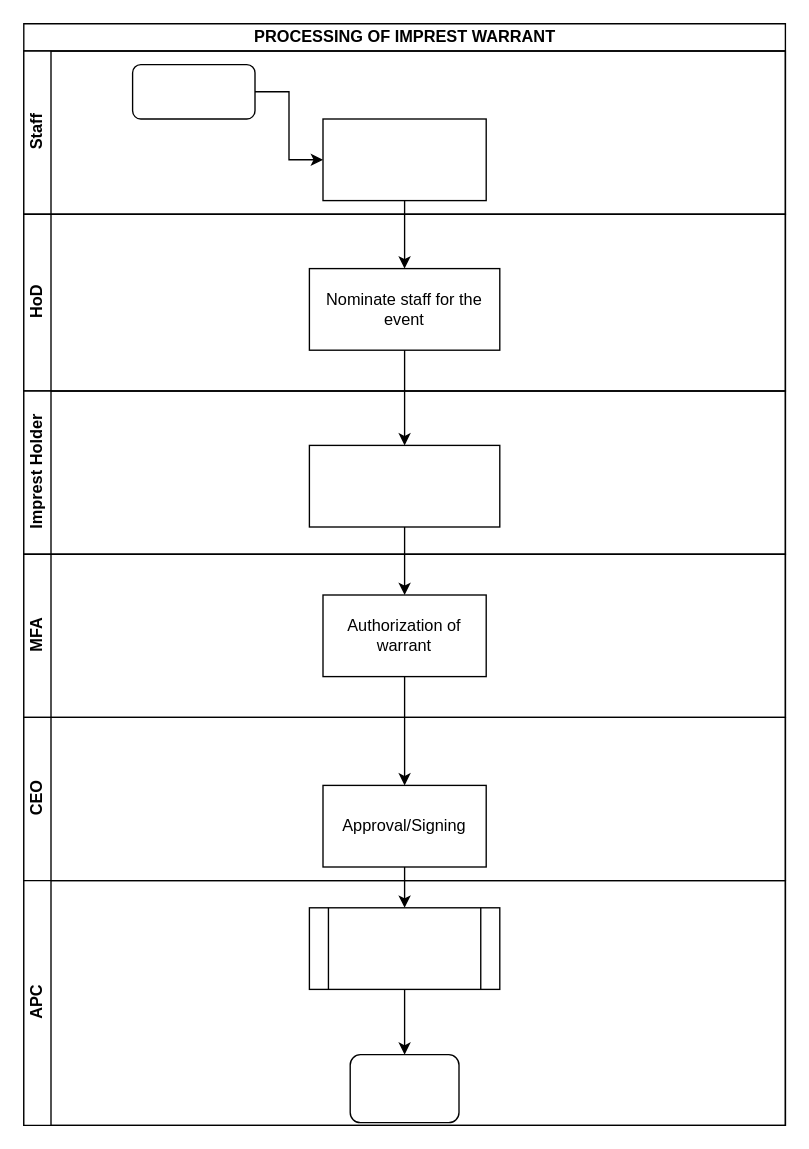
This 809x1149 diagram has some shape labels left out. The centre of each missing label's shape, as x and y in pixels:
End: (404,1088)
Fill in Imprest/Warrant Application Form: (404,485)
Prepare request for activities as per work plans: (404,159)
Start: (193,91)
Voucher payment process: (404,947)
